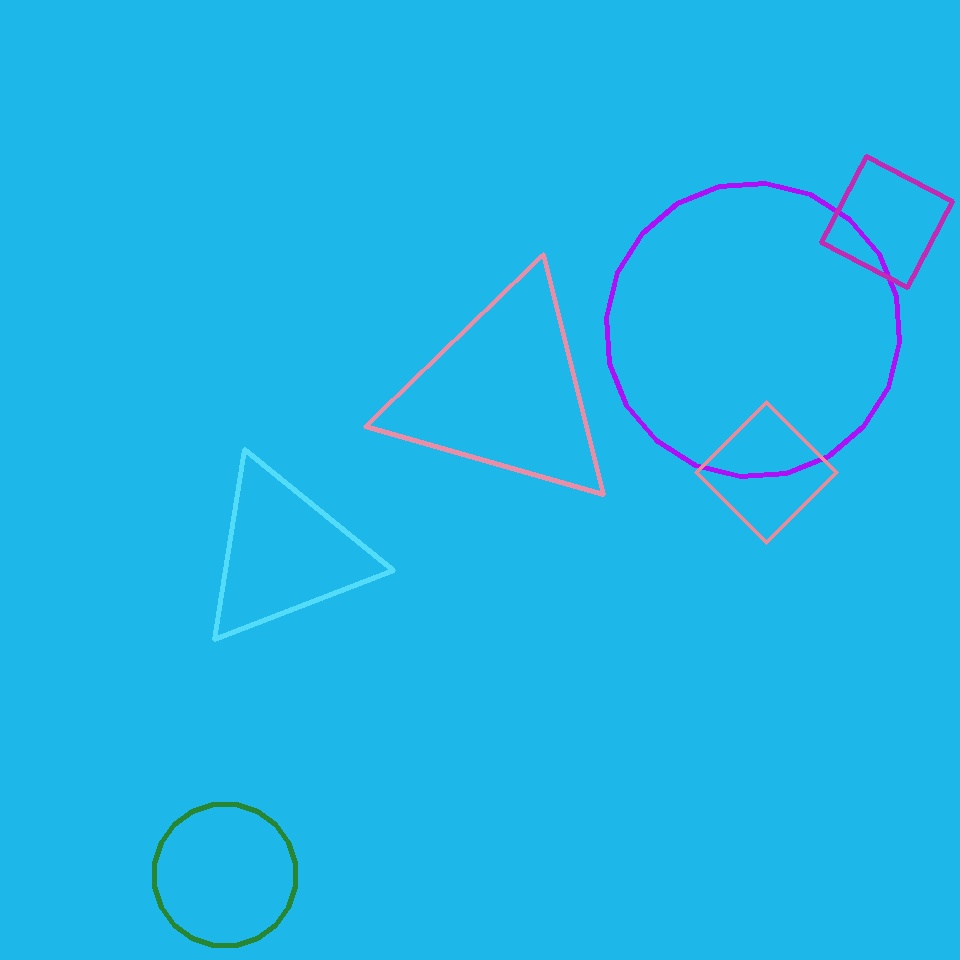circle: (385, 272, 623, 512), (194, 458, 374, 648)
square: (696, 402, 836, 542), (822, 156, 952, 288)
triangle: (606, 184, 900, 476), (154, 804, 296, 946)
